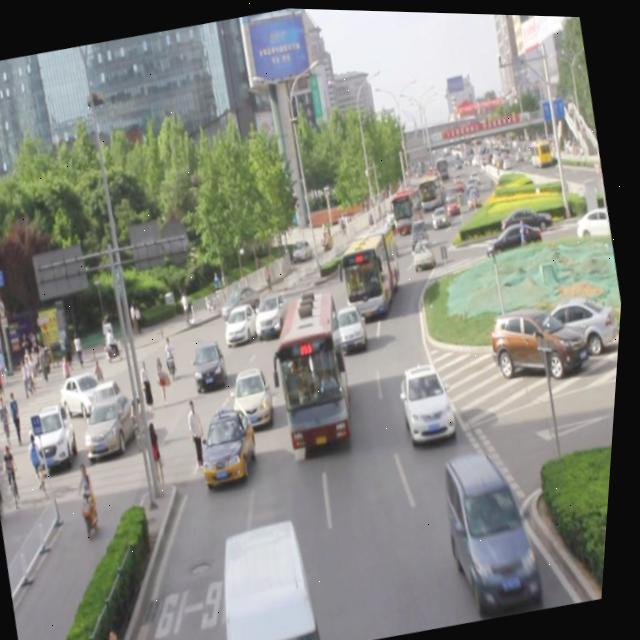car: (438, 437, 552, 605), (197, 400, 271, 485), (396, 355, 464, 442), (230, 360, 284, 431), (252, 285, 298, 336), (192, 338, 235, 392), (301, 298, 347, 348), (221, 298, 263, 343), (334, 300, 373, 348), (410, 233, 439, 268)
truck: (210, 514, 331, 640)
van: (266, 283, 367, 444), (336, 219, 413, 318)
